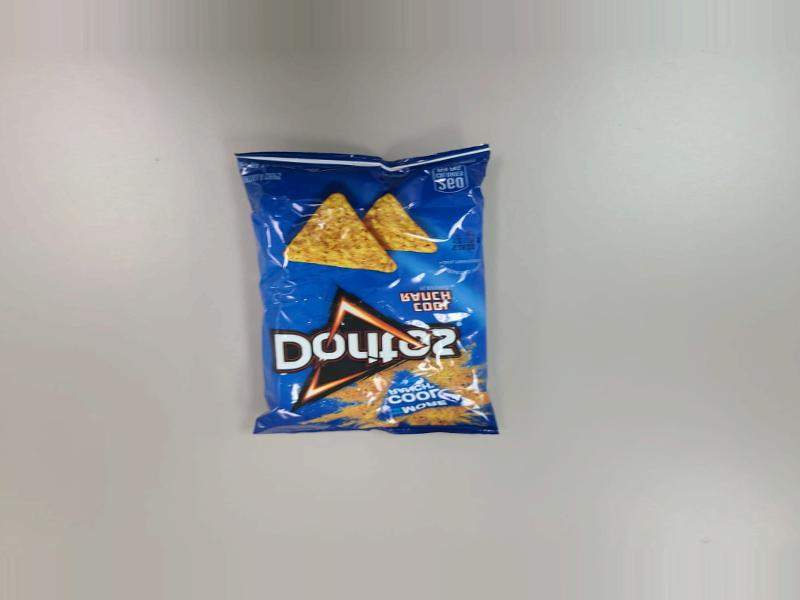doritos: (238, 131, 494, 457)
